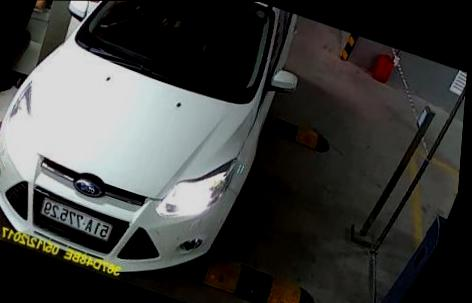License_Plate: (30, 198, 121, 242)
